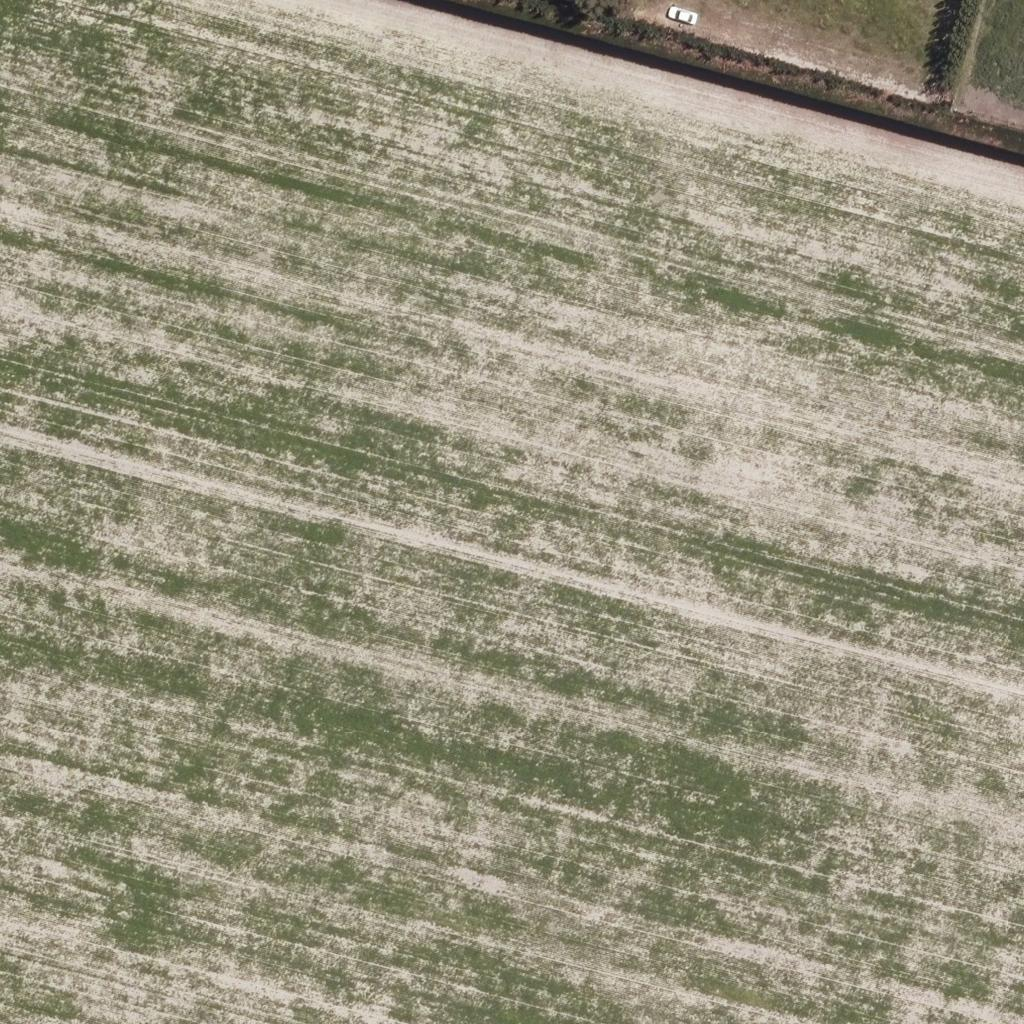car: (663, 0, 697, 31)
